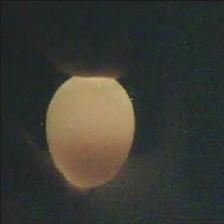infertile: (43, 73, 136, 191)
